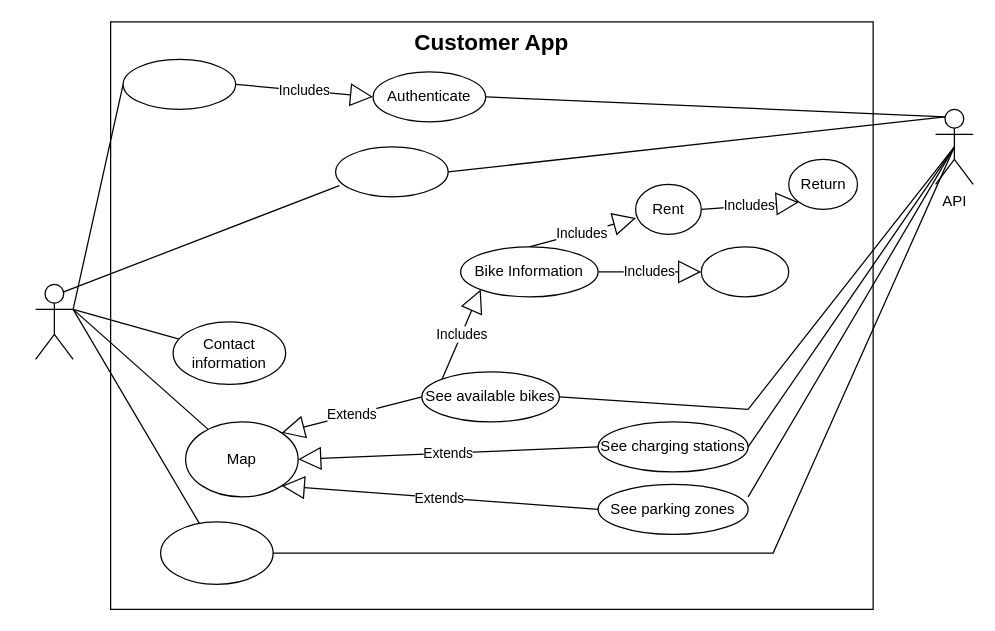
The diagram is 995 pixels wide and 631 high, and some of its shapes have lost their labels. The box of each missing label's shape, as (x1, y1, x2, y2) in pixels:
Customer: (34, 283, 73, 359)
Login: (122, 58, 236, 109)
Manage Account: (159, 521, 273, 584)
Register: (334, 146, 448, 197)
Reserve: (700, 246, 789, 297)
